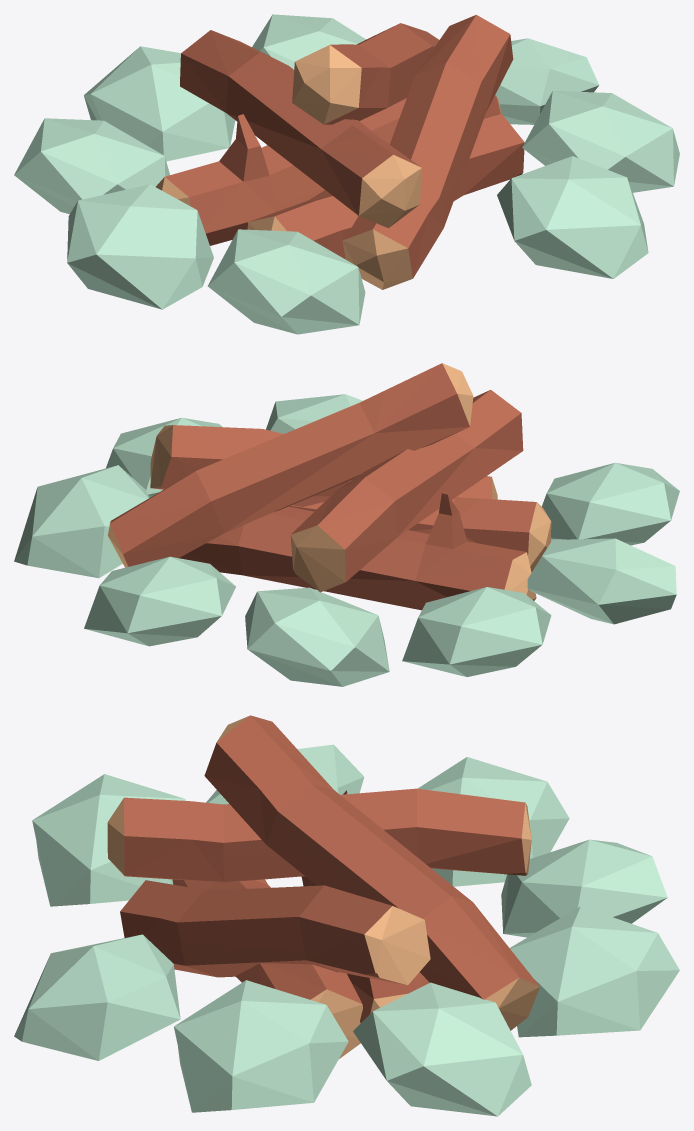
File: campfire.fbx
3 renders of one model, top to bottom at view 1: azimuth 30°, elevation 25°; view 2: azimuth 150°, elevation 25°; view 3: azimuth 270°, elevation 25°, orthographic. The views are drawn at different scales.
Visible parts, largest first — view 1: Rock2.007; view 2: Rock2.007; view 3: Rock2.007.
Part boxes in pixels (x1=…): Rock2.007: x1=14, y1=14, x2=679, y2=334; Rock2.007: x1=14, y1=363, x2=679, y2=686; Rock2.007: x1=14, y1=715, x2=679, y2=1116.
Size of the model in its own units: 465 by 164 by 405.
